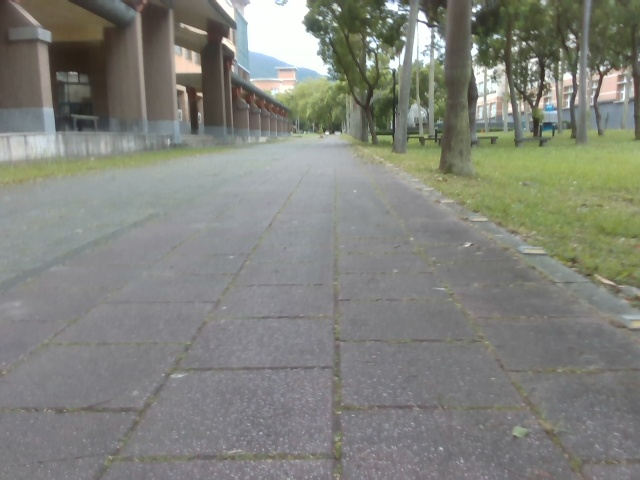grass: (341, 128, 639, 318), (276, 0, 476, 176), (469, 0, 639, 144), (0, 147, 224, 183)
road: (0, 136, 639, 479)
